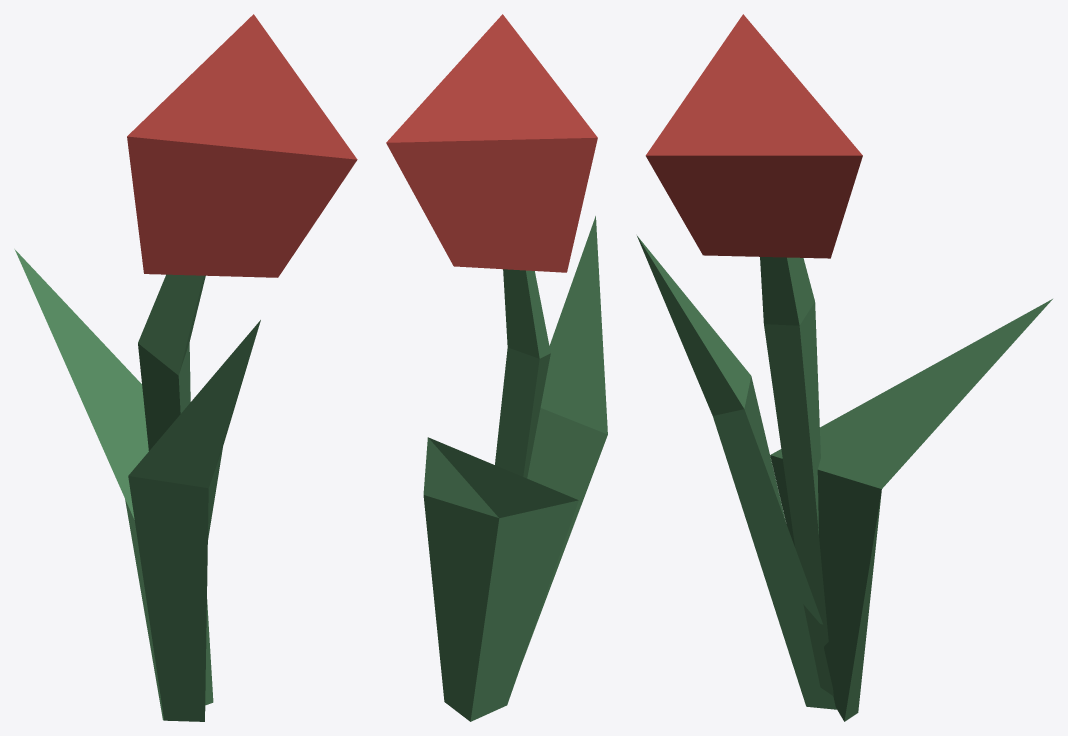
The model's file is msh_Flower01.fbx.
The picture shows the model from 3 angles, left to right: view 1: azimuth 30°, elevation 25°; view 2: azimuth 150°, elevation 25°; view 3: azimuth 270°, elevation 25°; orthographic projection. The views are drawn at different scales.
Parts seen in each view (by area): view 1: Cube.046, Cube.045, Cube.044, Cube.043; view 2: Cube.046, Cube.044, Cube.045, Cube.043; view 3: Cube.046, Cube.044, Cube.045, Cube.043.
Boxes of the visible parts, x1=… form: Cube.046: x1=127, y1=14, x2=357, y2=277; Cube.045: x1=128, y1=320, x2=260, y2=721; Cube.044: x1=14, y1=249, x2=213, y2=720; Cube.043: x1=138, y1=274, x2=205, y2=450; Cube.046: x1=386, y1=14, x2=597, y2=272; Cube.044: x1=423, y1=437, x2=578, y2=721; Cube.045: x1=523, y1=216, x2=607, y2=659; Cube.043: x1=495, y1=269, x2=550, y2=478; Cube.046: x1=645, y1=14, x2=862, y2=258; Cube.044: x1=770, y1=299, x2=1052, y2=721; Cube.045: x1=637, y1=236, x2=836, y2=709; Cube.043: x1=760, y1=257, x2=833, y2=695.
Size of the model in its own units: 32.52 by 121 by 64.64.
